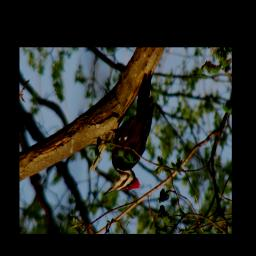Woodpecker: (100, 70, 158, 198)
